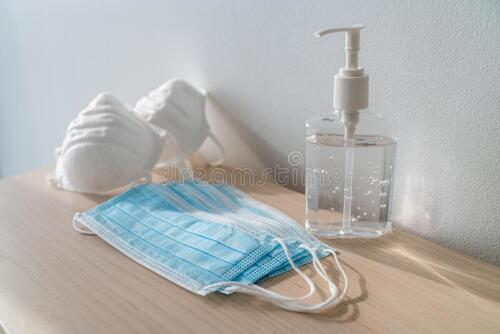sanitizer: (299, 22, 393, 236)
